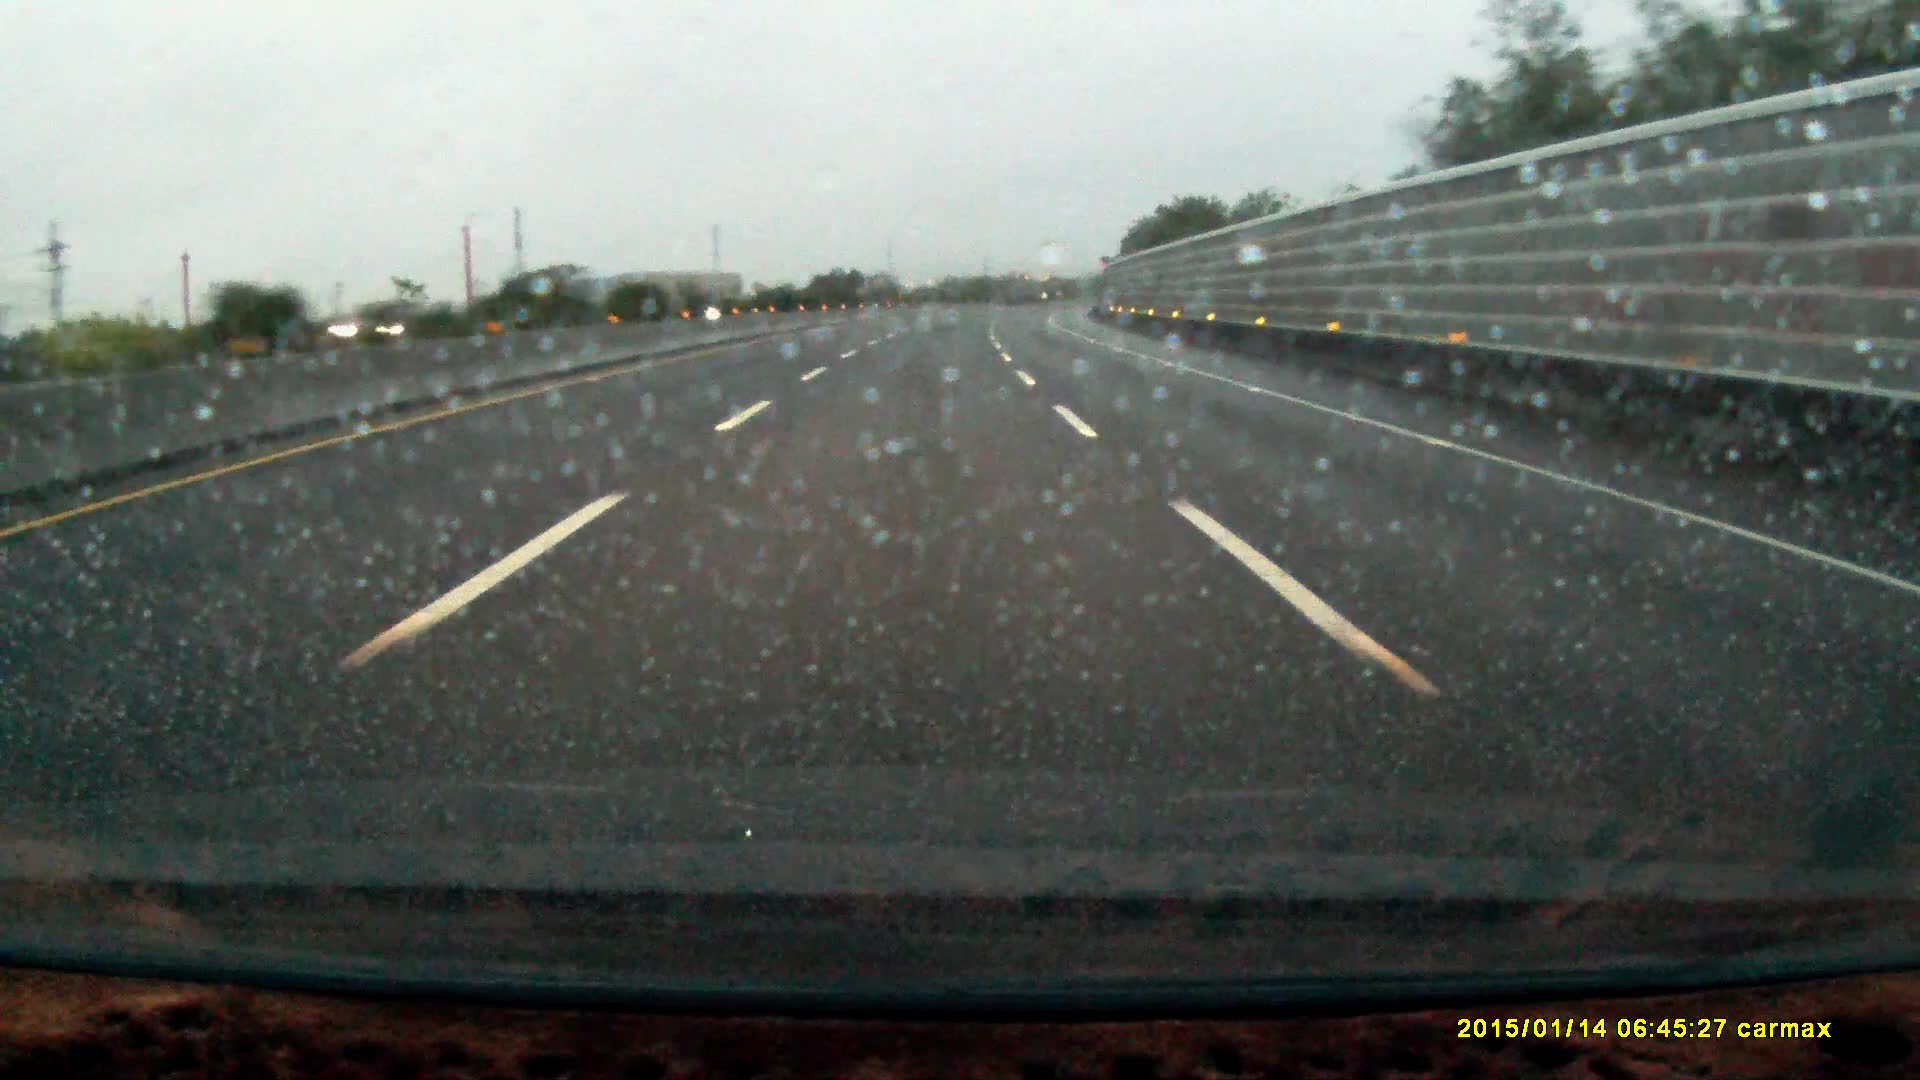vehicle: (320, 301, 469, 345)
